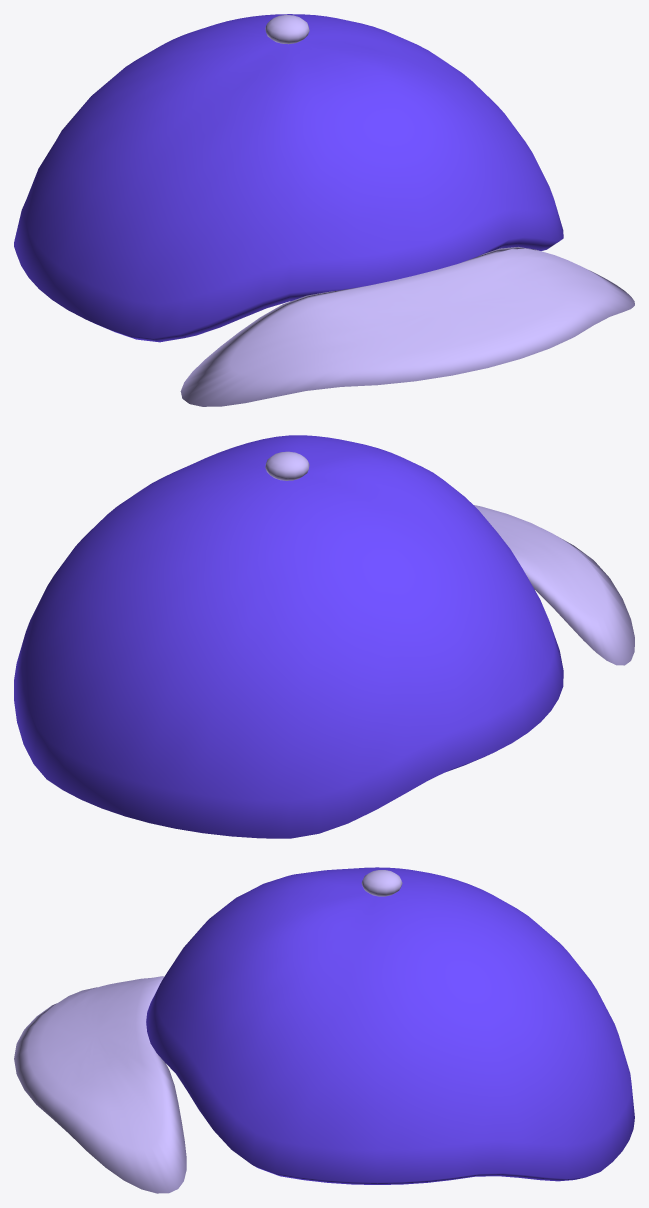
The model's file is hat-cap.glb.
The picture shows the model from 3 angles, top to bottom: view 1: azimuth 30°, elevation 25°; view 2: azimuth 150°, elevation 25°; view 3: azimuth 270°, elevation 25°; orthographic projection. The views are drawn at different scales.
Visible parts, largest first — view 1: hat-cap-mesh; view 2: hat-cap-mesh; view 3: hat-cap-mesh.
Part boxes in pixels (bbox=[...]): hat-cap-mesh: bbox=[14, 14, 634, 406]; hat-cap-mesh: bbox=[14, 435, 634, 838]; hat-cap-mesh: bbox=[14, 867, 634, 1193].
Bounding box in the file's own units: 2.2 × 1.22 × 2.72.
